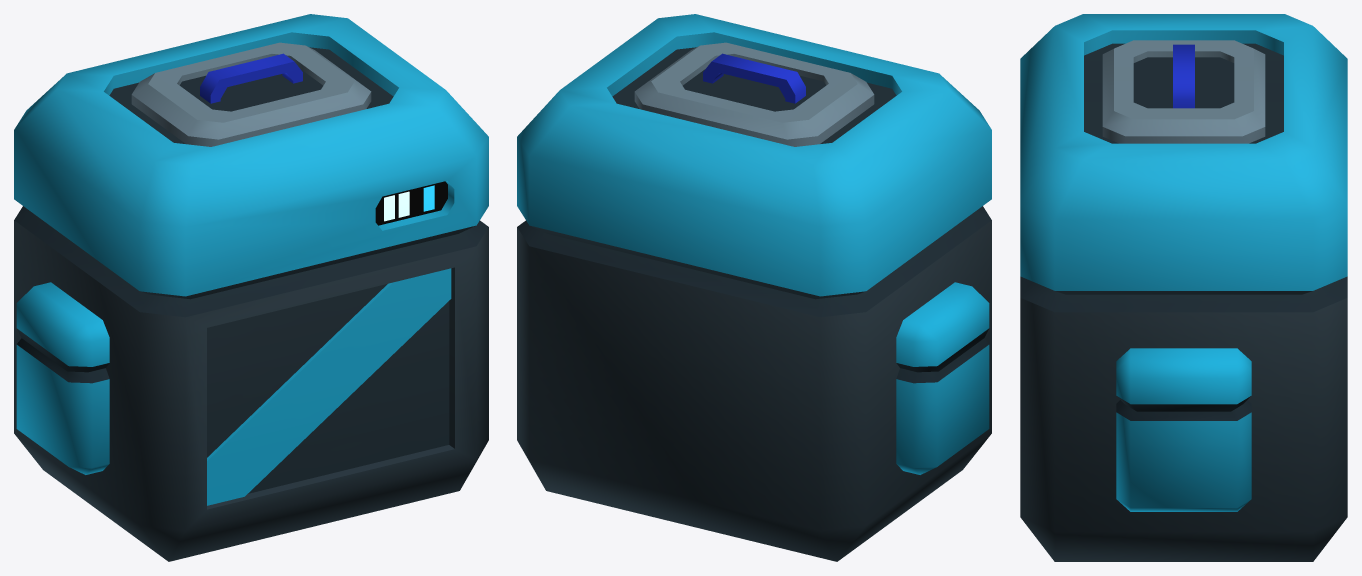
File: Character3.fbx
The picture shows the model from 3 angles, left to right: view 1: azimuth 30°, elevation 25°; view 2: azimuth 150°, elevation 25°; view 3: azimuth 270°, elevation 25°; orthographic projection. The views are drawn at different scales.
Visible parts, largest first — view 1: Bag_01_Blue; view 2: Bag_01_Blue; view 3: Bag_01_Blue.
Boxes of the visible parts, x1=… form: Bag_01_Blue: x1=14, y1=14, x2=488, y2=561; Bag_01_Blue: x1=517, y1=14, x2=991, y2=561; Bag_01_Blue: x1=1020, y1=14, x2=1347, y2=561.
Bounding box in the file's own units: 43.45 × 41.1 × 28.66.
Materials: 1 (1 with a texture image).
